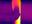Hotspot: (15, 15, 20, 23)
